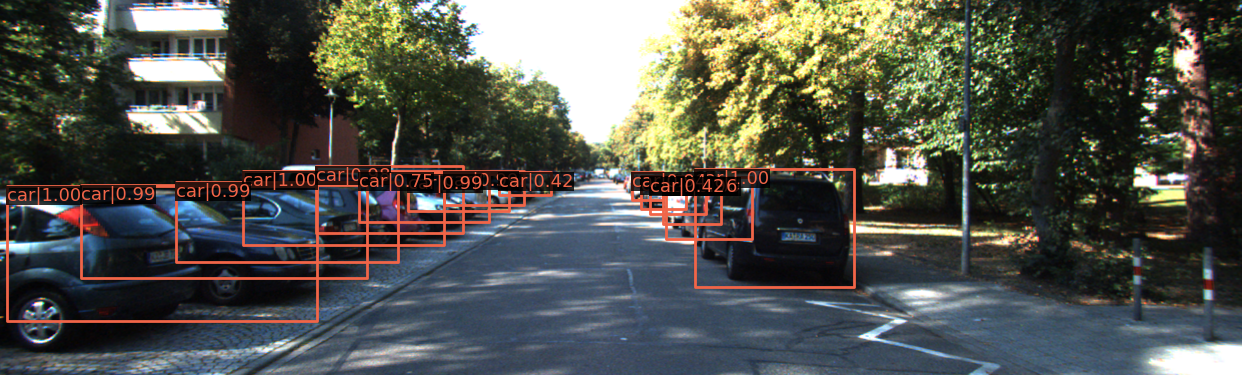car: (1, 185, 335, 310), (1, 186, 213, 349), (99, 186, 370, 281), (698, 167, 854, 287), (191, 182, 393, 260), (274, 165, 464, 243), (259, 177, 423, 252), (319, 167, 453, 233), (358, 175, 488, 224), (678, 184, 771, 247), (664, 179, 729, 230), (642, 180, 682, 211)
